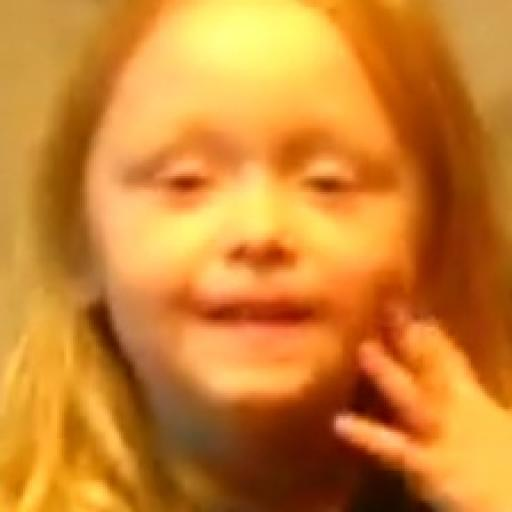Autism: (52, 1, 512, 457)
